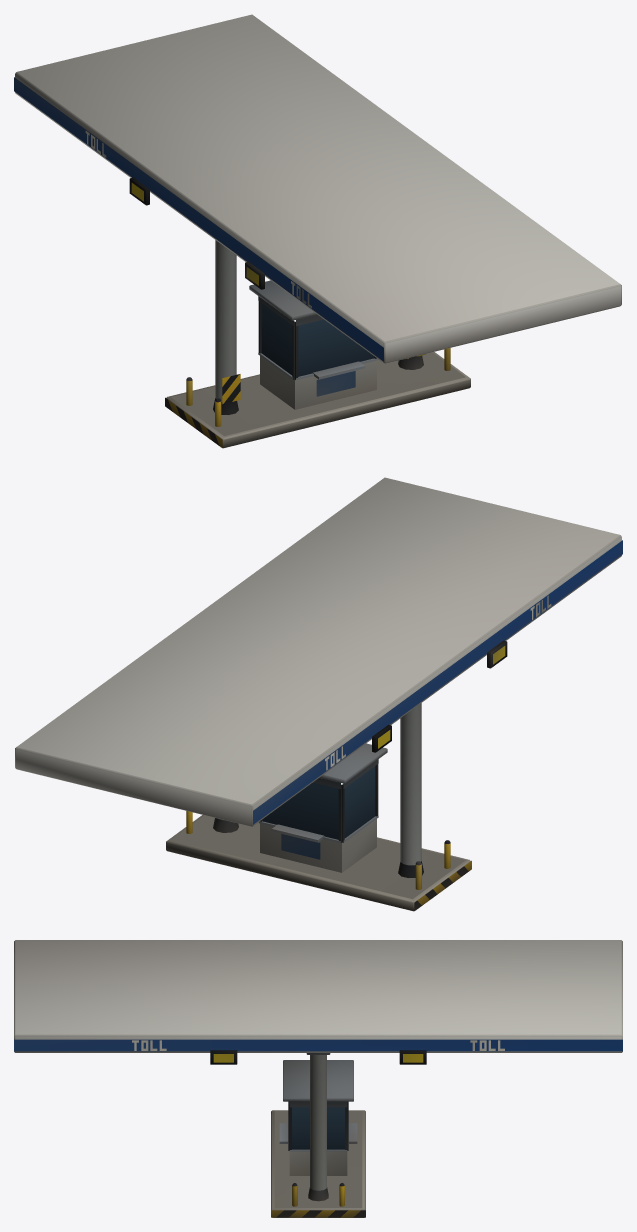
The model's file is toll_booth.glb.
3 renders of one model, top to bottom at view 1: azimuth 30°, elevation 25°; view 2: azimuth 150°, elevation 25°; view 3: azimuth 270°, elevation 25°, orthographic. The views are drawn at different scales.
Visible parts, largest first — view 1: TollBooth; view 2: TollBooth; view 3: TollBooth.
Part boxes in pixels (box(x1,y1,x2,y2)): TollBooth: box(14, 14, 621, 448); TollBooth: box(15, 477, 622, 911); TollBooth: box(14, 940, 622, 1217).
Size of the model in its own units: 7 by 5.9 by 18.
